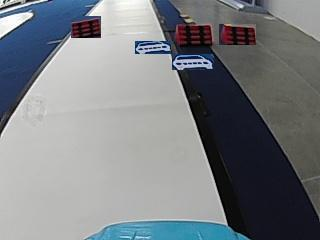bomb: (173, 23, 213, 44)
